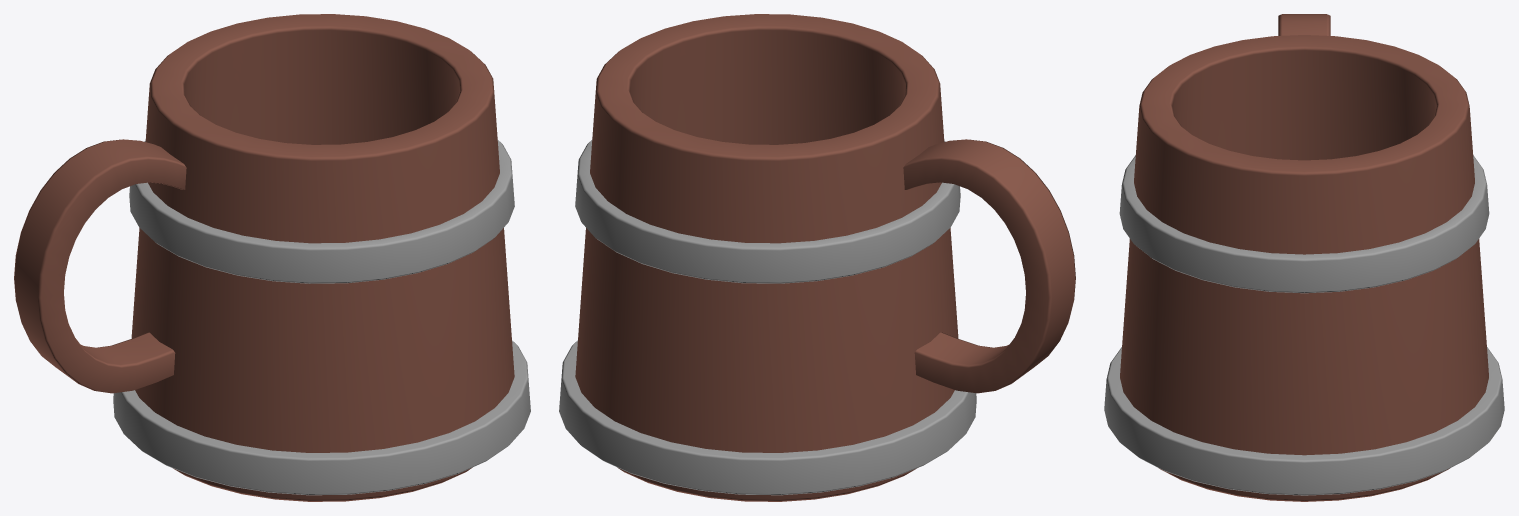
The model's file is Store_16_Beer_mug_1.glb.
The picture shows the model from 3 angles, left to right: view 1: azimuth 30°, elevation 25°; view 2: azimuth 150°, elevation 25°; view 3: azimuth 270°, elevation 25°; orthographic projection. The views are drawn at different scales.
Visible parts, largest first — view 1: Store_16_Beer_mug_1; view 2: Store_16_Beer_mug_1; view 3: Store_16_Beer_mug_1.
Boxes of the visible parts, <box> form: Store_16_Beer_mug_1: <box>14,14,530,501</box>; Store_16_Beer_mug_1: <box>559,14,1075,501</box>; Store_16_Beer_mug_1: <box>1104,14,1504,501</box>.
Size of the model in its own units: 0.2123 by 0.1446 by 0.1613.
Materials: 1 (1 with a texture image).
